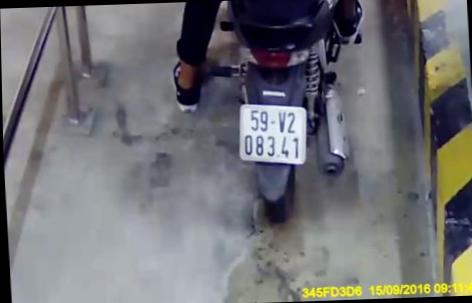LP: (235, 100, 310, 166)
